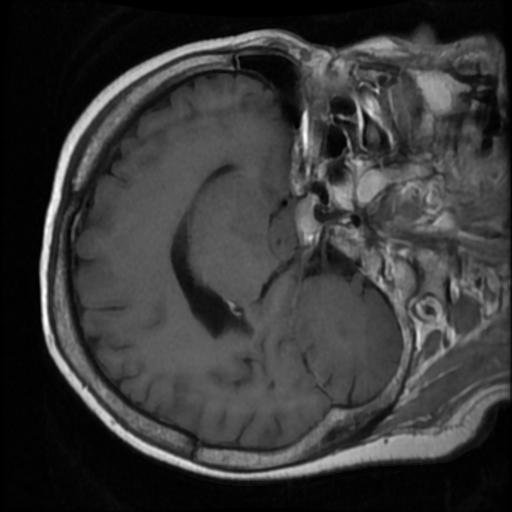pituitary tumour: (295, 191, 320, 245)
